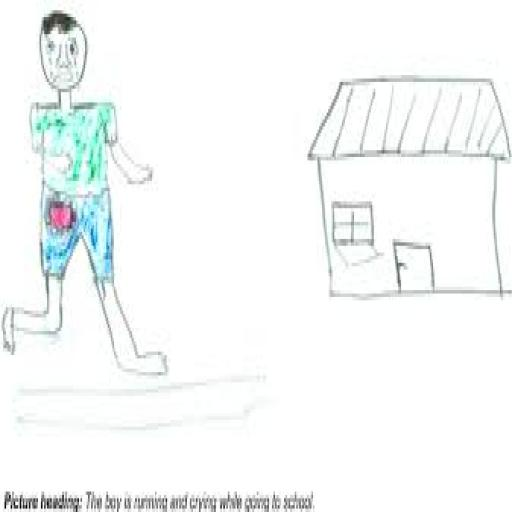person: (3, 8, 176, 390)
